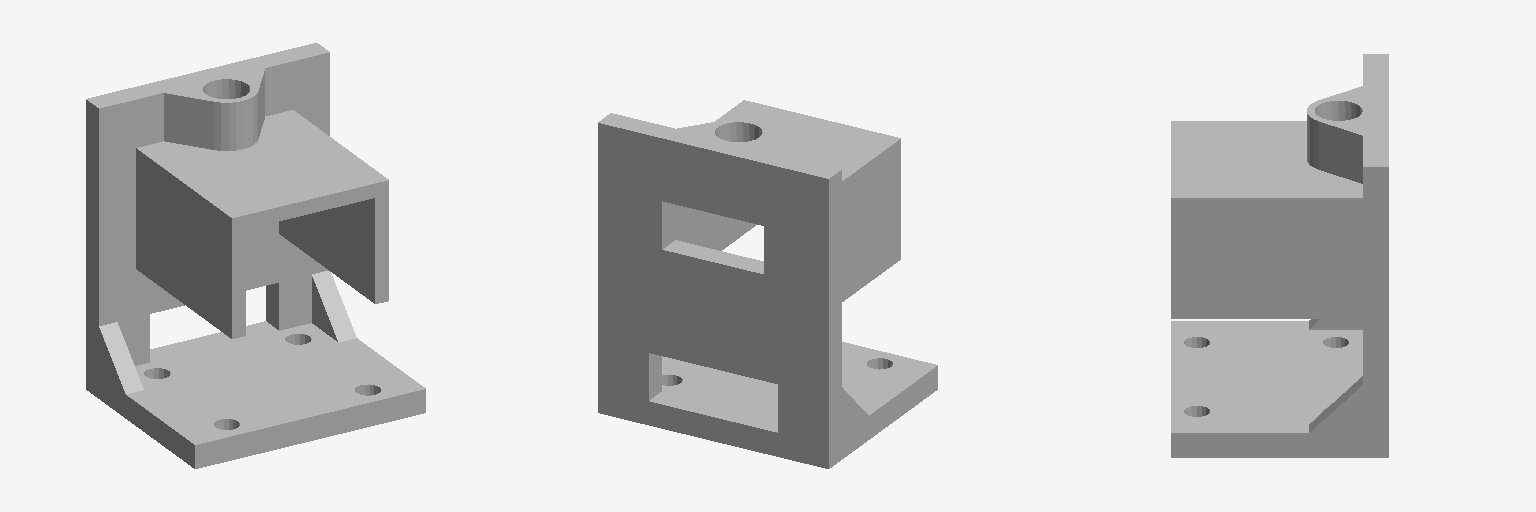
Rendered from KatownikNowy2.obj.
3 renders of one model, left to right at view 1: azimuth 30°, elevation 25°; view 2: azimuth 150°, elevation 25°; view 3: azimuth 270°, elevation 25°, orthographic.
Parts seen in each view (by area): view 1: Bryła1; view 2: Bryła1; view 3: Bryła1.
Part boxes in pixels (x1,y1,x2,y2): Bryła1: (86,43,425,468); Bryła1: (598,100,937,468); Bryła1: (1171,54,1388,457).
Bounding box in the file's own units: 50 × 60 × 41.